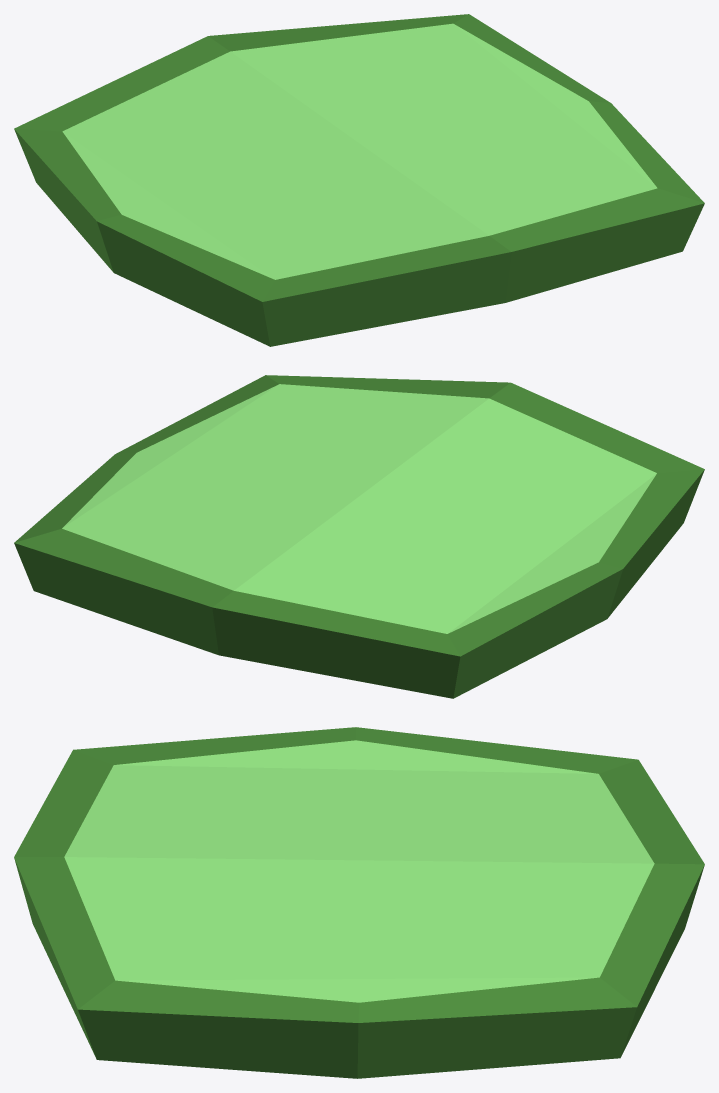
Rendered from keyLimeSlice.fbx.
3 views of the same model, one above another, from view 1: azimuth 30°, elevation 25°; view 2: azimuth 150°, elevation 25°; view 3: azimuth 270°, elevation 25° (orthographic). The views are drawn at different scales.
Visible parts, largest first — view 1: keyLimeSlice; view 2: keyLimeSlice; view 3: keyLimeSlice.
Part boxes in pixels (<box>): keyLimeSlice: <box>14,14,704,346</box>; keyLimeSlice: <box>14,375,704,698</box>; keyLimeSlice: <box>14,727,704,1078</box>.
Bounding box in the file's own units: 5.4 × 0.7954 × 5.51.
Materials: 1 (1 with a texture image).
